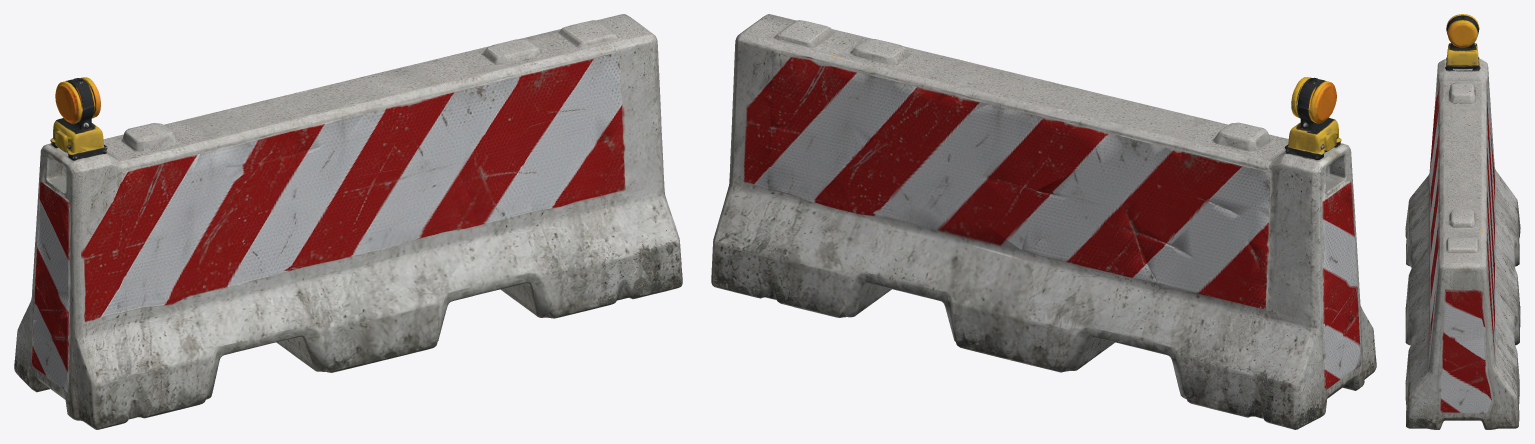
The model's file is barrier.glb.
The picture shows the model from 3 angles, left to right: view 1: azimuth 30°, elevation 25°; view 2: azimuth 150°, elevation 25°; view 3: azimuth 270°, elevation 25°; orthographic projection. The views are drawn at different scales.
Visible parts, largest first — view 1: MeshyFit; view 2: MeshyFit; view 3: MeshyFit.
Part boxes in pixels (<box>): MeshyFit: <box>14,14,682,429</box>; MeshyFit: <box>711,14,1376,429</box>; MeshyFit: <box>1405,14,1520,429</box>.
Bounding box in the file's own units: 1.95 × 1 × 0.468.
1 material, 1 textured.
